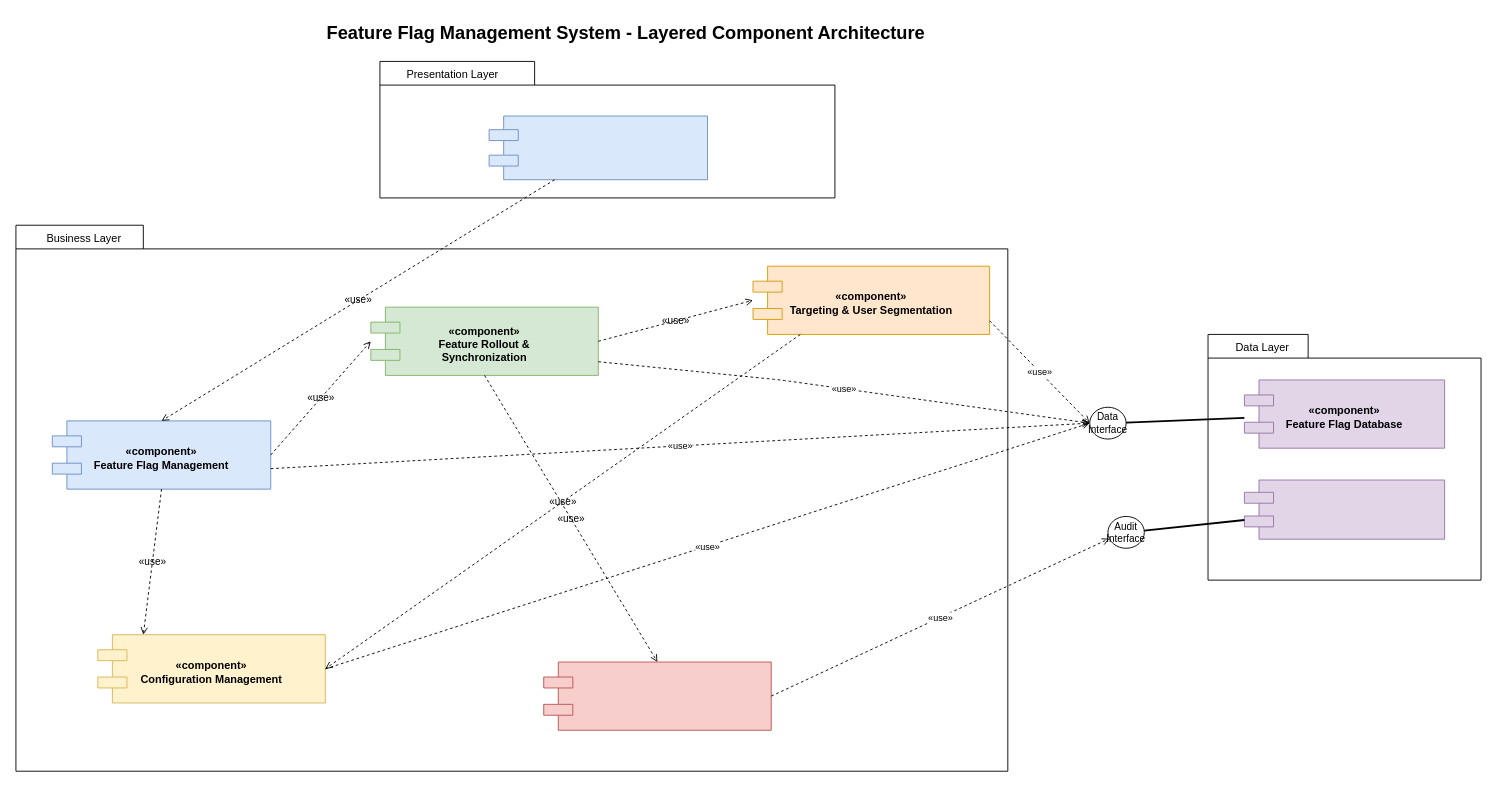
Some shapes in this 1497 by 787 pixel diagram are drawn without their labels. The centre of each missing label's shape, as x and y in pixels:
"«component» Audit Log Store" belongs at (x=1344, y=509).
"«component» Feature Flag Dashboard" belongs at (x=598, y=147).
"«component» Monitoring & Audit" belongs at (x=657, y=695).
